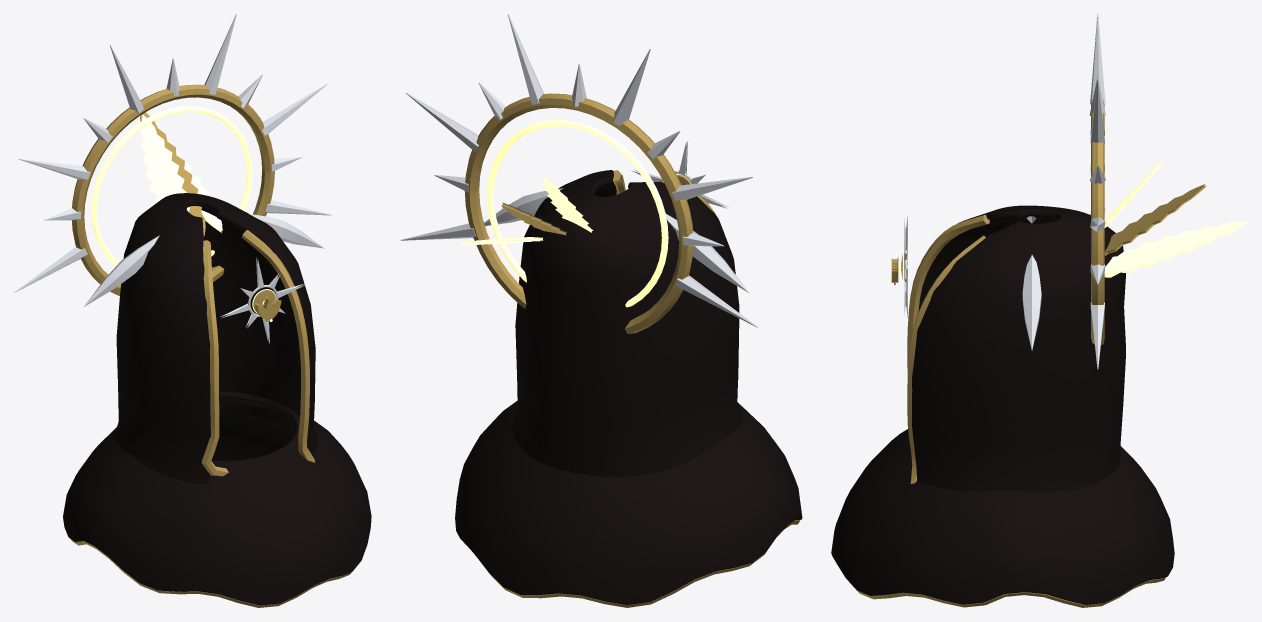
Rendered from esc_ending_whisper_helm.glb.
The picture shows the model from 3 angles, left to right: view 1: azimuth 30°, elevation 25°; view 2: azimuth 150°, elevation 25°; view 3: azimuth 270°, elevation 25°; orthographic projection. The views are drawn at different scales.
Visible parts, largest first — view 1: esc_ending_whisper_helm; view 2: esc_ending_whisper_helm; view 3: esc_ending_whisper_helm.
Boxes of the visible parts, left/top/right/bottom form: esc_ending_whisper_helm: left=14, top=14, right=371, bottom=607; esc_ending_whisper_helm: left=400, top=14, right=802, bottom=607; esc_ending_whisper_helm: left=831, top=14, right=1247, bottom=607.
Bounding box in the file's own units: 0.7147 × 1.04 × 0.7596.
